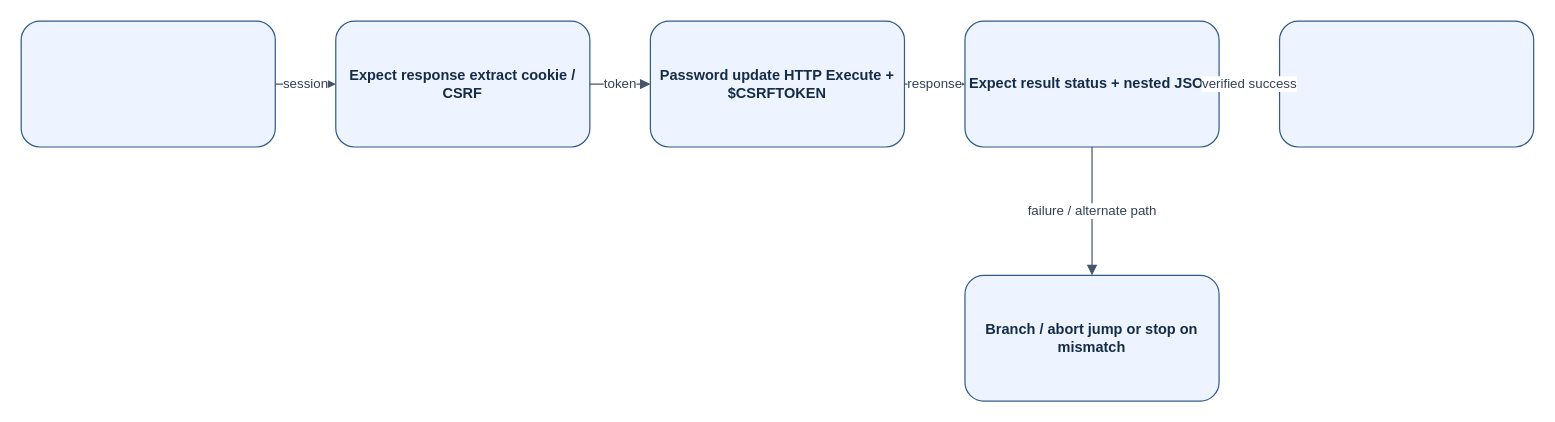
The diagram is 1555 pixels wide and 422 high, and some of its shapes have lost their labels. Each missing label, with the centre of its shape:
Authenticate HTTP Execute: [147,83]
Verifier prove new credential works: [1406,83]
